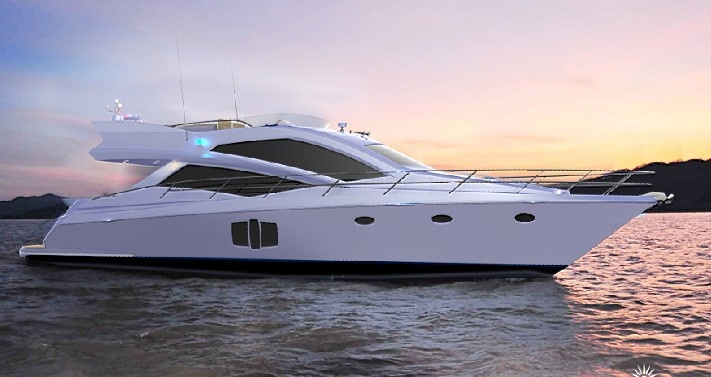yacht: (18, 83, 677, 273)
